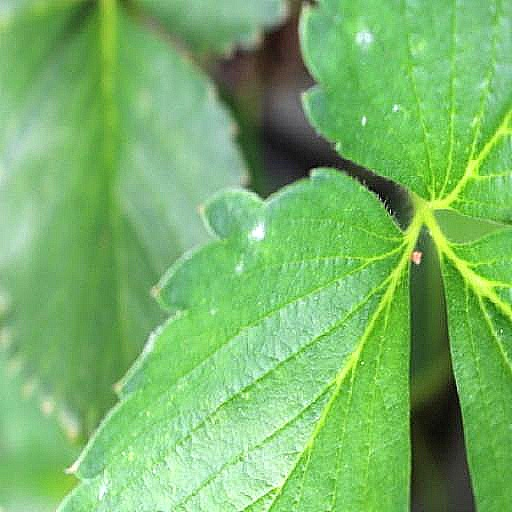Powdery Mildew Leaf: (99, 0, 459, 344), (0, 285, 213, 511)
